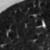node: (39, 19, 47, 29)
